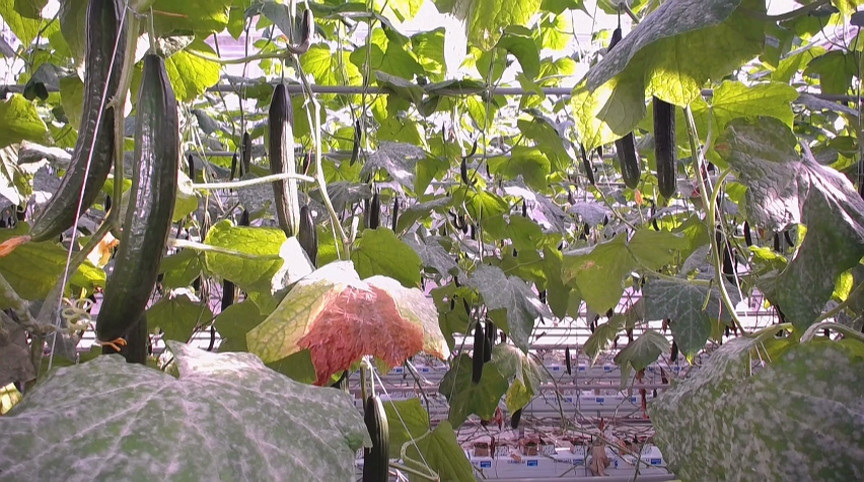cucumber: (94, 54, 181, 343), (27, 2, 123, 243), (269, 84, 300, 239), (362, 394, 392, 482), (653, 92, 677, 197), (616, 133, 642, 191), (285, 11, 315, 56), (299, 206, 316, 266), (473, 323, 485, 384)
